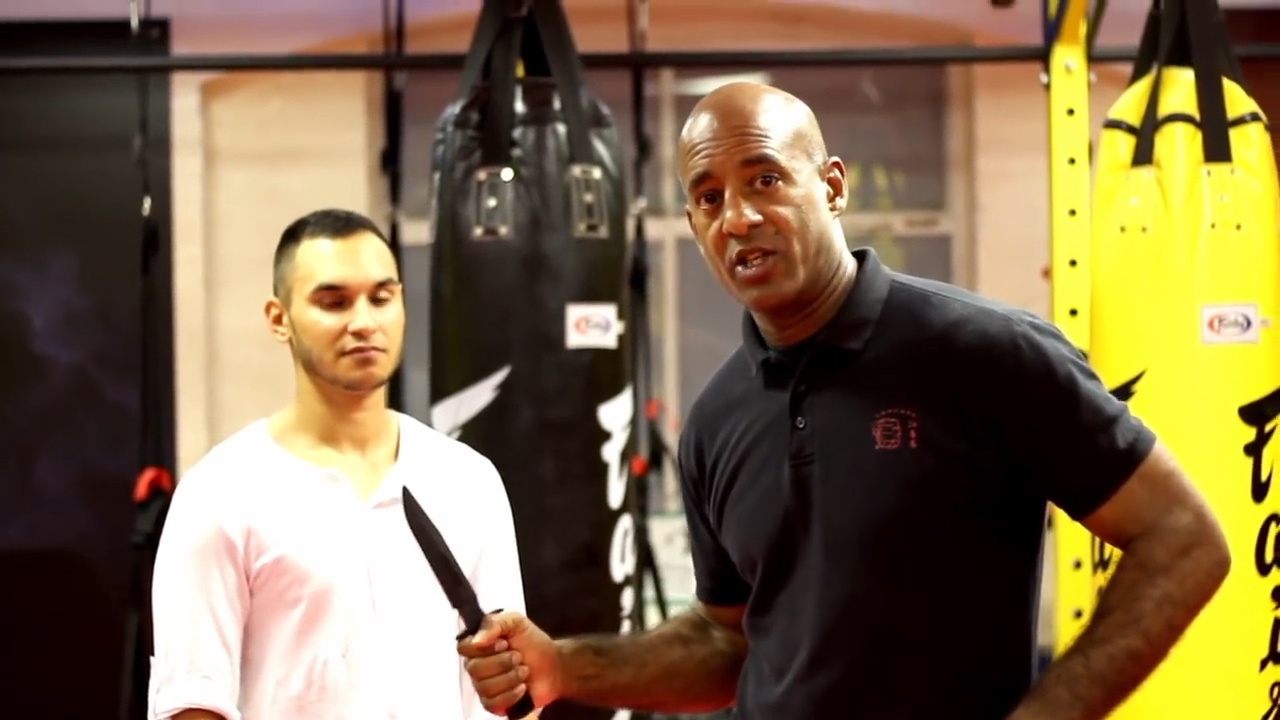knife: (392, 478, 548, 720)
